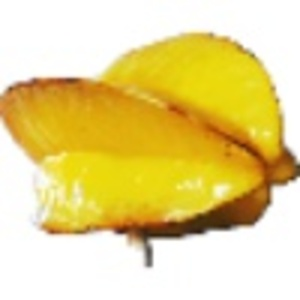carambola: (1, 30, 300, 266)
